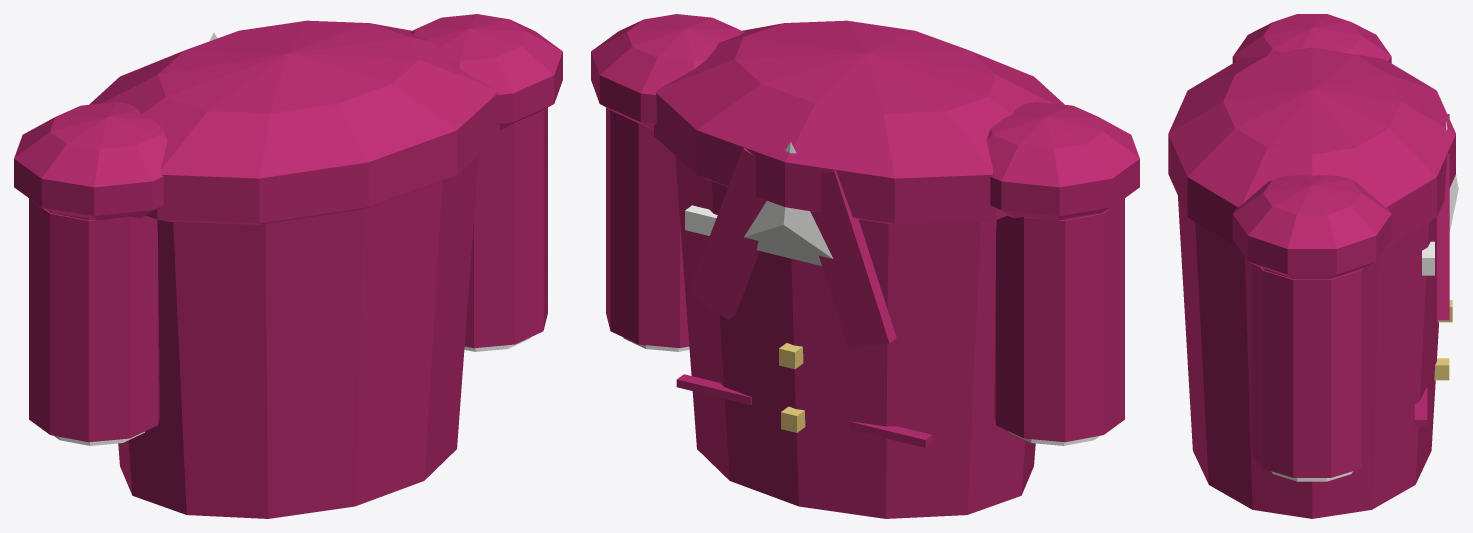
The model's file is jacket_blazer.glb.
The picture shows the model from 3 angles, left to right: view 1: azimuth 30°, elevation 25°; view 2: azimuth 150°, elevation 25°; view 3: azimuth 270°, elevation 25°; orthographic projection. The views are drawn at different scales.
Parts seen in each view (by area): view 1: Torso, ArmL, ArmR; view 2: Torso, ArmL, ArmR; view 3: Torso, ArmR, ArmL.
Boxes of the visible parts, x1=… form: Torso: x1=89, y1=20, x2=499, y2=518; ArmL: x1=14, y1=102, x2=167, y2=445; ArmR: x1=409, y1=14, x2=562, y2=351; Torso: x1=654, y1=20, x2=1064, y2=518; ArmL: x1=986, y1=102, x2=1139, y2=445; ArmR: x1=591, y1=14, x2=744, y2=351; Torso: x1=1168, y1=47, x2=1458, y2=518; ArmR: x1=1232, y1=175, x2=1391, y2=481; ArmL: x1=1232, y1=14, x2=1391, y2=63.
Size of the model in its own units: 0.8387 by 0.6216 by 0.4521.
